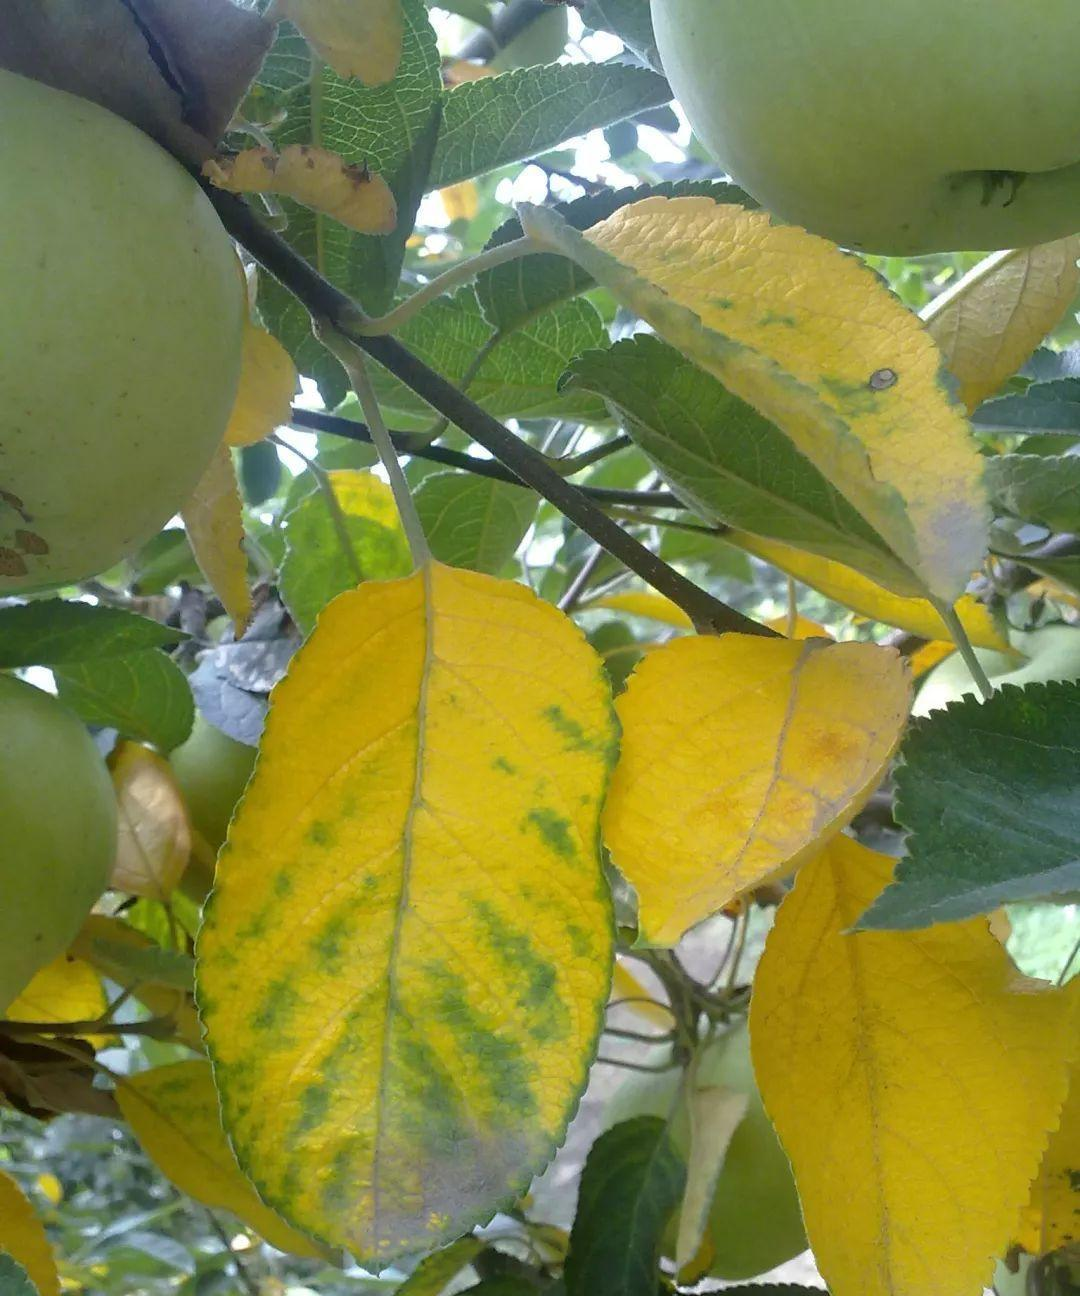apple: (1, 64, 243, 586), (648, 5, 1069, 260), (1, 675, 113, 994)
